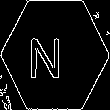N_N: (37, 29, 73, 81)
